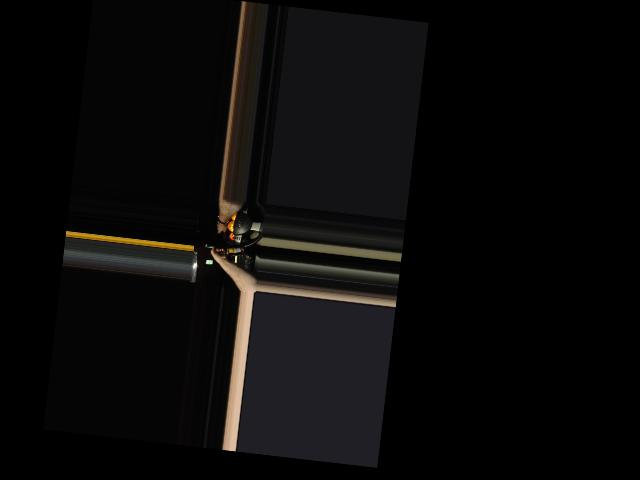beer: (210, 242, 244, 259)
